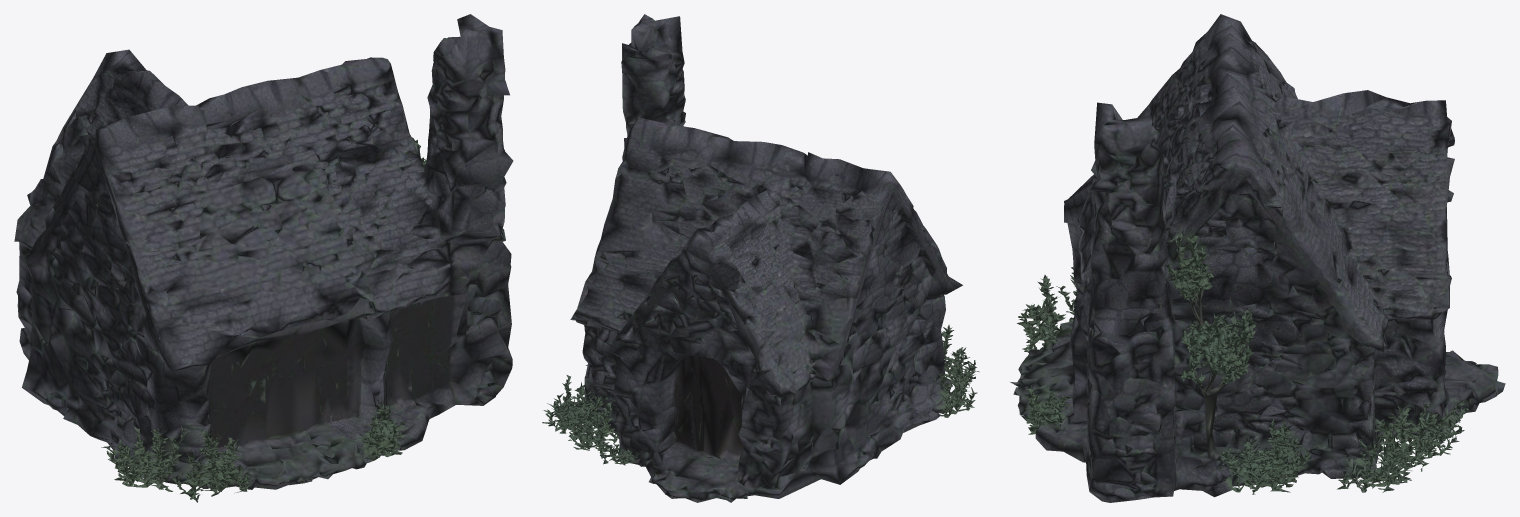
The model's file is cottage.glb.
3 views of the same model, side by side, from view 1: azimuth 30°, elevation 25°; view 2: azimuth 150°, elevation 25°; view 3: azimuth 270°, elevation 25° (orthographic). The views are drawn at different scales.
Bounding box in the file's own units: 1.75 × 1.56 × 1.82.
1 material, 1 textured.
